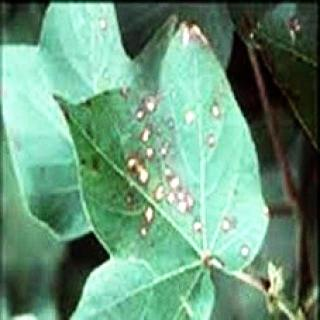leaf spot: (94, 21, 272, 279)
